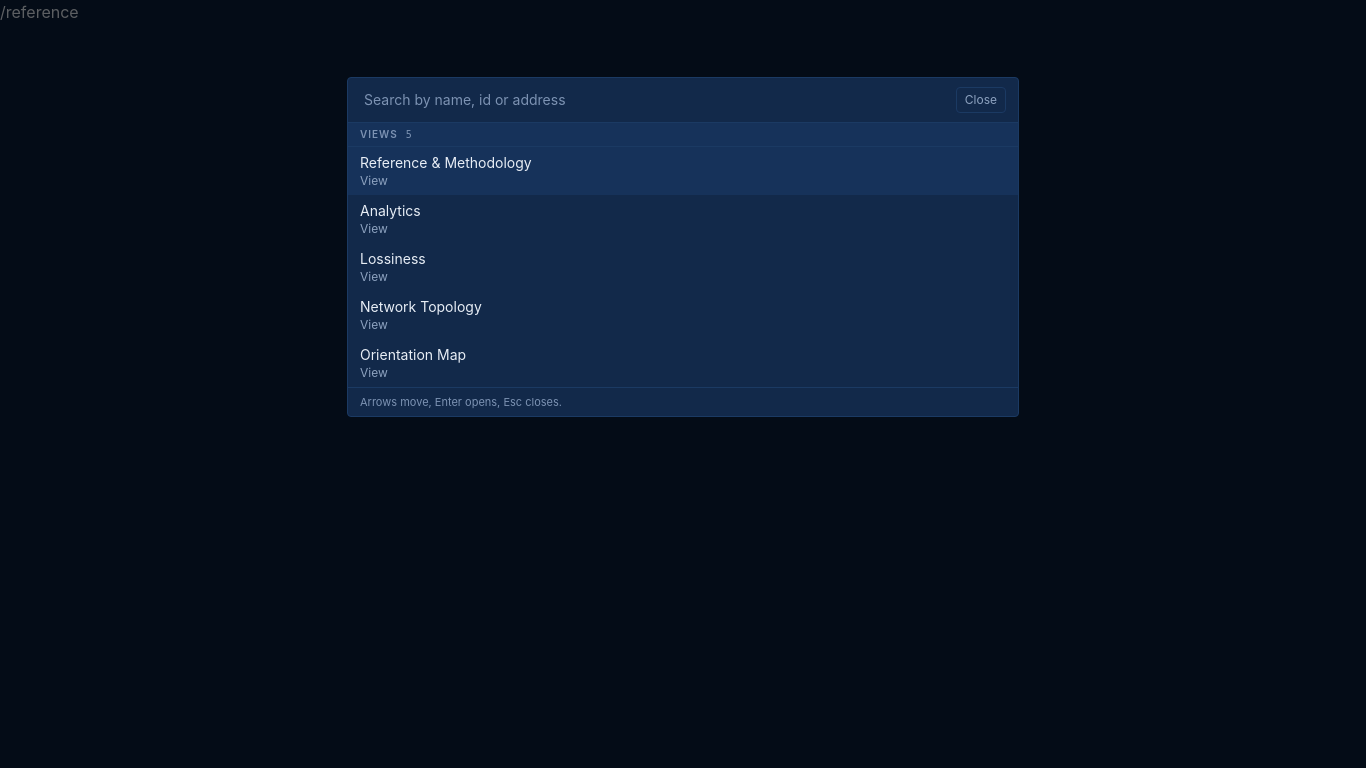
it: command palette › names the kind of every group, because a name can be two things
Type "core" into the dropdown.
click(654, 100); type("core")  # box [360, 86, 948, 114]
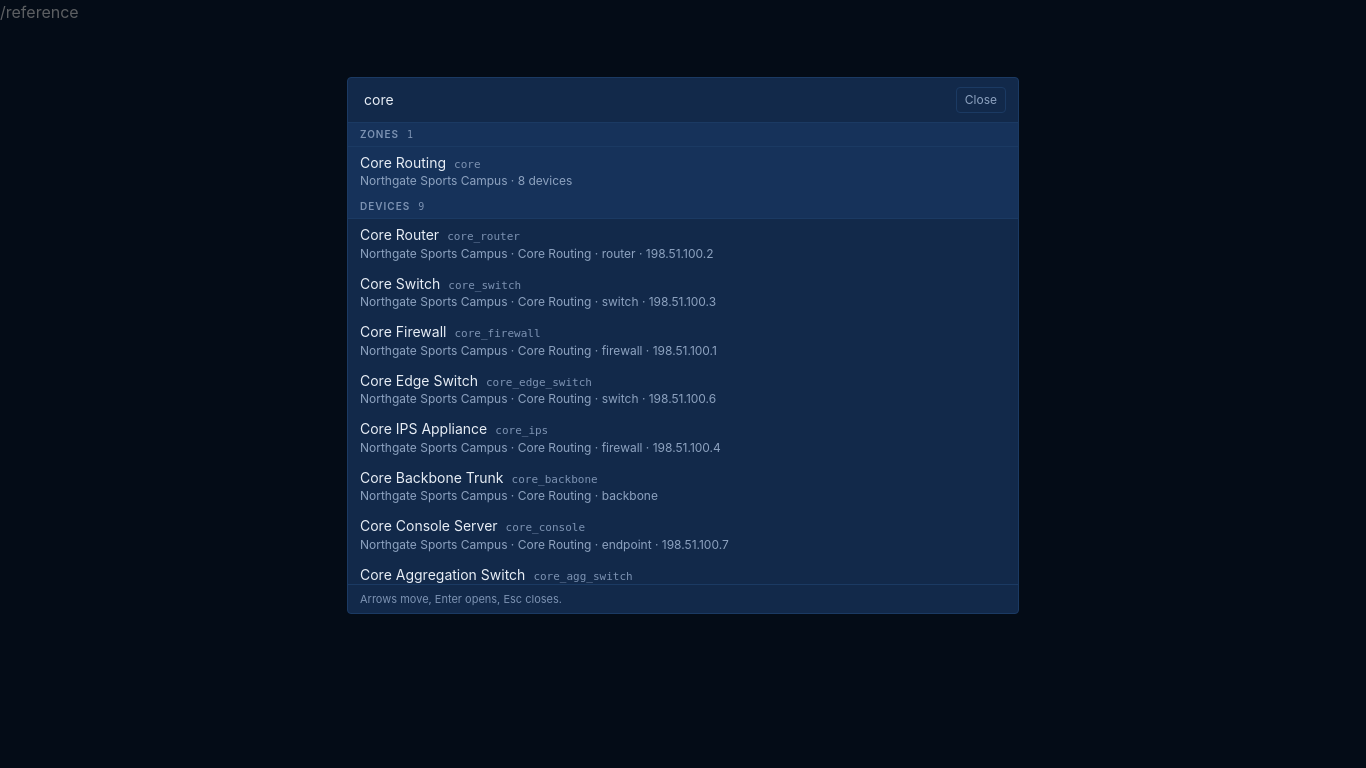
Now the option "Core Routing core Northgate Sports Campus · 8 devices" is shown, box [348, 147, 1018, 195]
